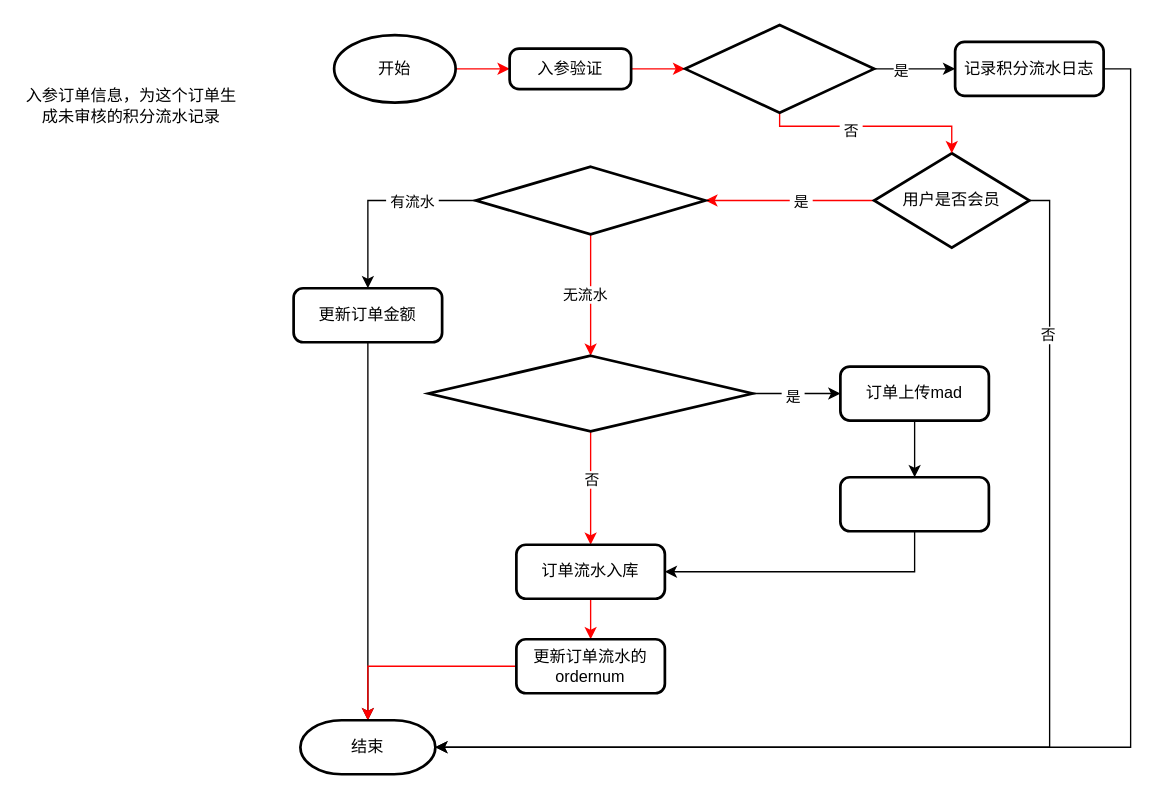
This 1165x798 diagram has some shape labels left out. The shapes that lost their labels are listed below. From the top down, each one's centre as x and y in pixels, then its label:
the point at 779,68: 是否是ph扫描订单
the point at 590,200: 查询订单积分流水
the point at 590,393: CPOS_UPDATE_STATUS打开 & 当天的cposorderinfo表有orderid的正常单记录
the point at 914,503: elites交易事件
